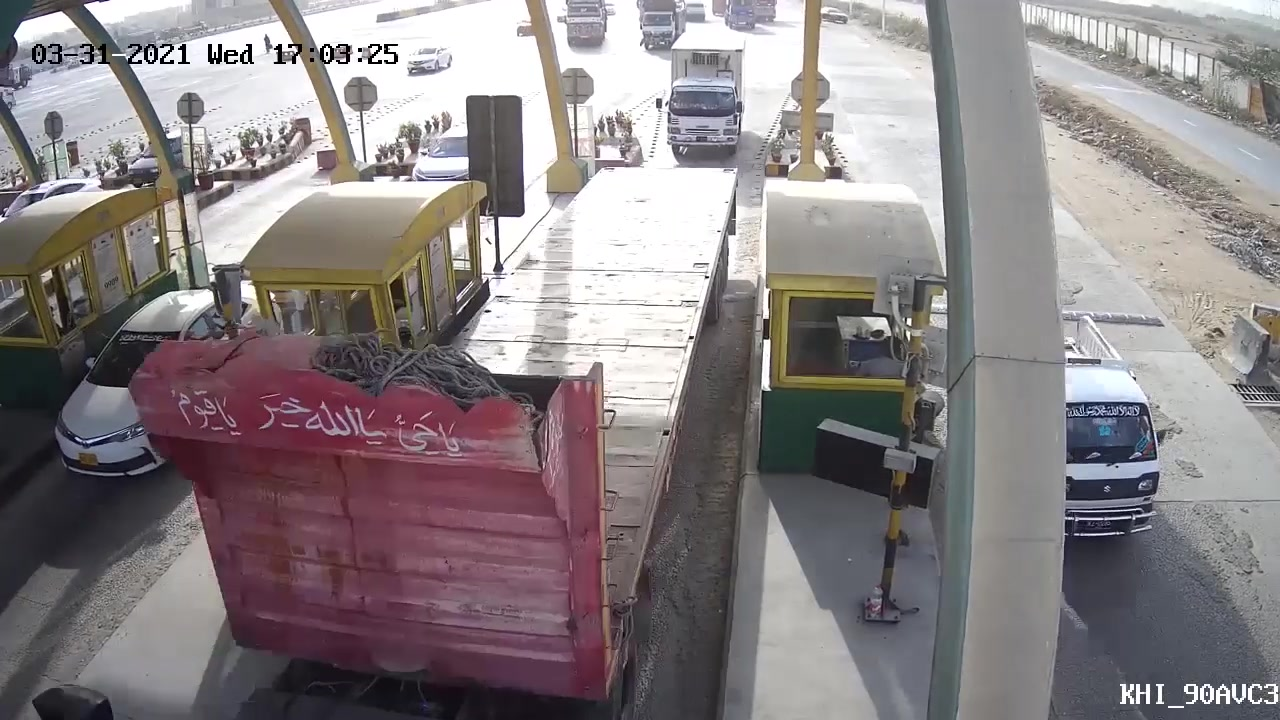F5: (657, 30, 763, 160)
